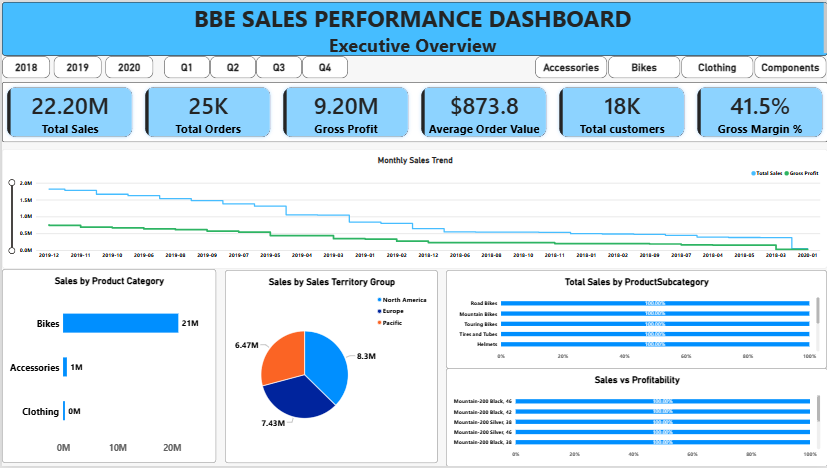

The dashboard page shown, as its layout file describes it:
{"tool":"powerbi","page":{"name":"Executive Overview","canvas":[1920,1080],"ordinal":0},"visuals":[{"type":"textbox","box":[0,0,1920,125],"z":0},{"type":"cardVisual","fields":{"Data":["Measures (2).Total Sales","Measures (2).Total Orders","Measures (2).Gross Profit","Measures (2).Average Order Value","Measures (2).Total customers","Measures (2).Gross Margin %"]},"box":[0,185,1920,140],"z":1000},{"type":"advancedSlicerVisual","fields":{"Values":["Dim_Date.Year"]},"box":[0,125,352.5,52.5],"z":2000},{"type":"advancedSlicerVisual","fields":{"Values":["Dim_Products.ProductCategoryName"]},"box":[1240,125,680,52.5],"z":3000},{"type":"advancedSlicerVisual","fields":{"Values":["Dim_Date.Quarter"]},"box":[377.5,125,430,52.5],"z":4000},{"type":"lineChart","title":"Monthly Sales Trend","fields":{"Category":["Dim_Date.Year Month"],"Y":["Measures (2).Total Sales","Measures (2).Gross Profit"]},"box":[0,342.5,1920,277.5],"z":4001},{"type":"clusteredBarChart","title":"Sales by Product Category","fields":{"Y":["Measures (2).Total Sales"],"Category":["Dim_Products.ProductCategoryName"]},"box":[0,620.9,497.7,451.2],"z":4002},{"type":"hundredPercentStackedBarChart","fields":{"Category":["Dim_Products.ProductSubcategory"],"Y":["Measures (2).Total Sales"]},"box":[1032.6,623.3,886,230.2],"z":4003},{"type":"hundredPercentStackedBarChart","title":"Sales vs Profitability","fields":{"Y":["Measures (2).Total Sales"],"Category":["Dim_Products.ProductName"]},"box":[1032.5,850,887.5,230],"z":4004},{"type":"pieChart","title":"Sales by Sales Territory Group","fields":{"Category":["Fact_Sales.SalesTerritoryGroup"],"Y":["Measures (2).Total Sales"]},"box":[518.6,623.3,495.3,448.8],"z":4006}]}

Visuals, with their boxes in screenshot pixels (x1, y1, x2, y2), scaled from the page's 1920x1080 canvas onto the 827x468 screenshot:
textbox: bbox=[0, 0, 826, 54]
cardVisual - Measures (2).Total Sales x Measures (2).Total Orders: bbox=[0, 80, 826, 141]
advancedSlicerVisual - Dim_Date.Year: bbox=[0, 54, 152, 77]
advancedSlicerVisual - Dim_Products.ProductCategoryName: bbox=[534, 54, 826, 77]
advancedSlicerVisual - Dim_Date.Quarter: bbox=[163, 54, 348, 77]
"Monthly Sales Trend" lineChart: bbox=[0, 148, 826, 269]
"Sales by Product Category" clusteredBarChart: bbox=[0, 269, 214, 465]
hundredPercentStackedBarChart - Dim_Products.ProductSubcategory x Measures (2).Total Sales: bbox=[445, 270, 826, 370]
"Sales vs Profitability" hundredPercentStackedBarChart: bbox=[445, 368, 826, 467]
"Sales by Sales Territory Group" pieChart: bbox=[223, 270, 437, 465]
